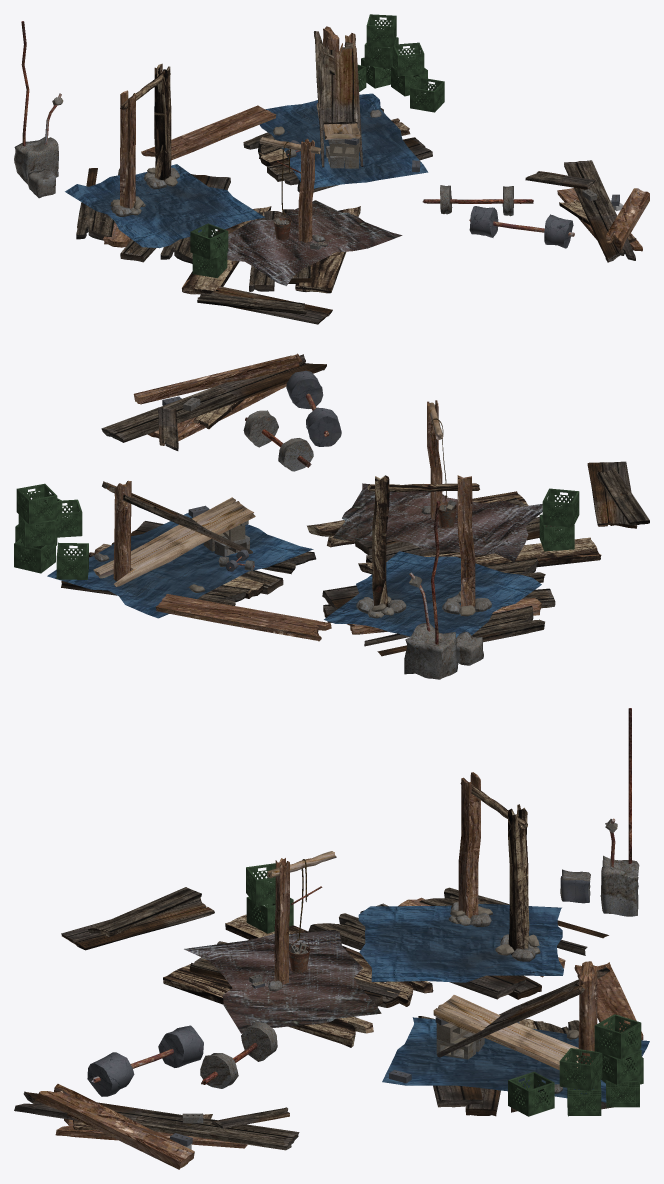
The model's file is training_Final.fbx.
3 renders of one model, top to bottom at view 1: azimuth 30°, elevation 25°; view 2: azimuth 150°, elevation 25°; view 3: azimuth 270°, elevation 25°, orthographic. The views are drawn at different scales.
Parts seen in each view (by area): view 1: pPlane5, pPlane13, pPlane7, WoodPlank_Broken7, polySurface11, WoodPlank_Broken15 (×2), WoodPlank_Broken14 (×2), polySurface14, polySurface17, polySurface16, pCube113, polySurface4 (+21 smaller); view 2: pPlane5, pPlane13, pPlane7, WoodPlank_Broken15 (×2), polySurface11, WoodPlank25, polySurface14, pCube113, WoodPlank_Broken14 (×2), polySurface10, polySurface16, polySurface17 (+28 smaller); view 3: pPlane5, pPlane13, pPlane7, WoodPlank_Broken14 (×2), polySurface10, polySurface11, WoodPlank25, WoodPlank_Broken15 (×2), polySurface16, polySurface17, polySurface8, pCube113 (+22 smaller).
Part boxes in pixels (box(x1,y1,x2,y2)): pPlane5: box(65, 164, 264, 248); pPlane13: box(219, 200, 402, 286); pPlane7: box(259, 93, 428, 188); WoodPlank_Broken7: box(314, 31, 363, 167); polySurface11: box(564, 160, 635, 262); WoodPlank_Broken15 (×2): box(76, 168, 271, 294); WoodPlank_Broken14 (×2): box(160, 175, 360, 293); polySurface14: box(141, 105, 276, 160); polySurface17: box(154, 63, 171, 180); polySurface16: box(120, 90, 135, 209); pCube113: box(14, 137, 58, 184); polySurface4: box(298, 138, 314, 242); pPlane5: box(324, 551, 541, 637); pPlane13: box(332, 483, 542, 561); pPlane7: box(47, 513, 313, 618); WoodPlank_Broken15 (×2): box(358, 537, 601, 656); polySurface11: box(101, 354, 326, 442); WoodPlank25: box(93, 497, 255, 586); polySurface14: box(155, 594, 331, 641); pCube113: box(404, 623, 458, 679); WoodPlank_Broken14 (×2): box(307, 491, 545, 609); polySurface10: box(133, 353, 301, 404); polySurface16: box(457, 475, 475, 606); polySurface17: box(372, 475, 389, 614); pPlane5: box(358, 903, 563, 982); pPlane13: box(184, 930, 381, 1033); pPlane7: box(382, 1017, 649, 1102); WoodPlank_Broken14 (×2): box(163, 913, 526, 1047); polySurface10: box(35, 1084, 194, 1169); polySurface11: box(14, 1091, 299, 1150); WoodPlank25: box(433, 995, 578, 1070); WoodPlank_Broken15 (×2): box(225, 887, 608, 1006); polySurface16: box(458, 772, 480, 918); polySurface17: box(508, 804, 529, 954); polySurface8: box(61, 897, 214, 950); pCube113: box(600, 855, 639, 916).
Bounding box in the file's own units: 752 × 253 × 717.
Materials: 13 (12 with a texture image).
